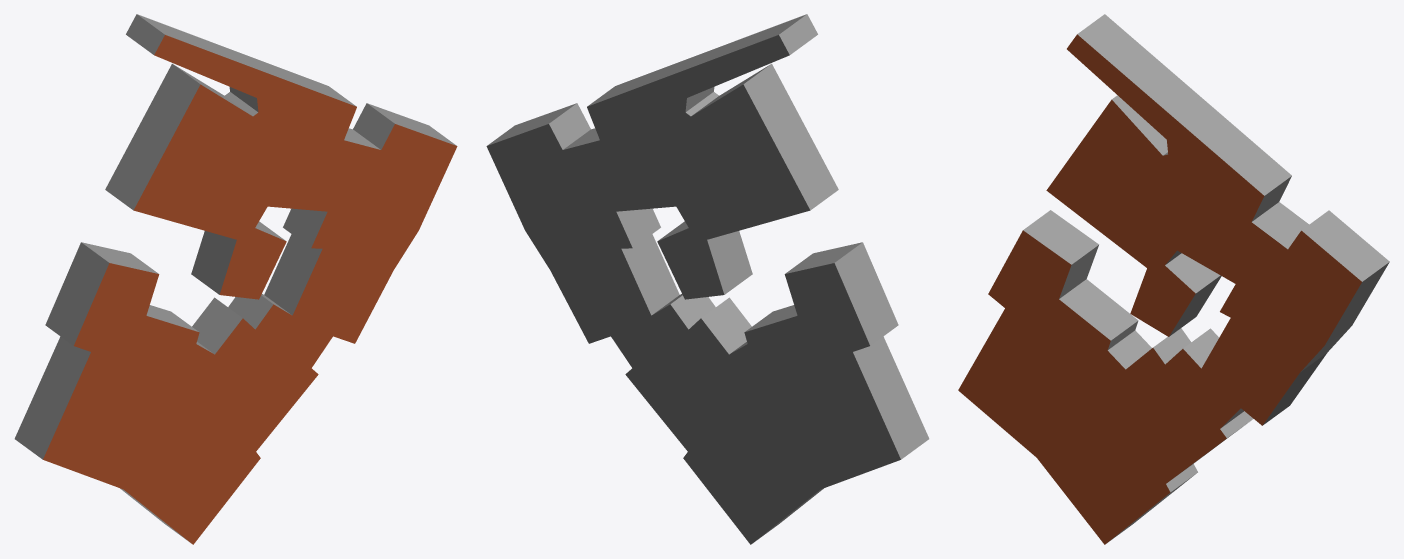
Rendered from construction_5463_assumed_A_Casa_h6m.obj.
The picture shows the model from 3 angles, left to right: view 1: azimuth 30°, elevation 25°; view 2: azimuth 150°, elevation 25°; view 3: azimuth 330°, elevation 25°; orthographic projection. The views are drawn at different scales.
Visible parts, largest first — view 1: construction_5463_assumed_A_Casa; view 2: construction_5463_assumed_A_Casa; view 3: construction_5463_assumed_A_Casa.
Boxes of the visible parts, box(x1,y1,x2,y2) form: construction_5463_assumed_A_Casa: box(14, 14, 457, 544); construction_5463_assumed_A_Casa: box(486, 14, 929, 544); construction_5463_assumed_A_Casa: box(958, 14, 1389, 544).
Size of the model in its own units: 50.55 by 60.24 by 6.
